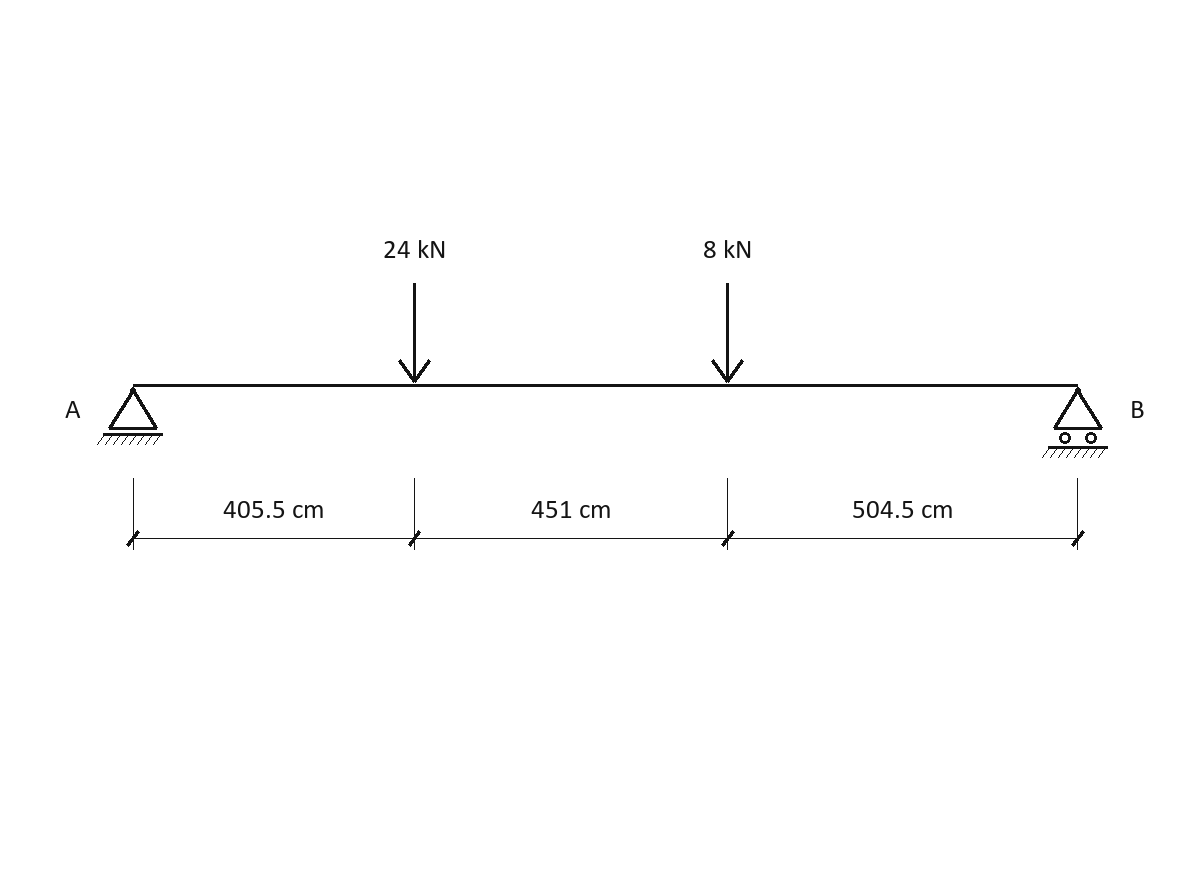pin_support: (97, 387, 163, 445)
point_load: (398, 283, 431, 383), (711, 283, 744, 383)
roller_support: (1042, 387, 1108, 458)
